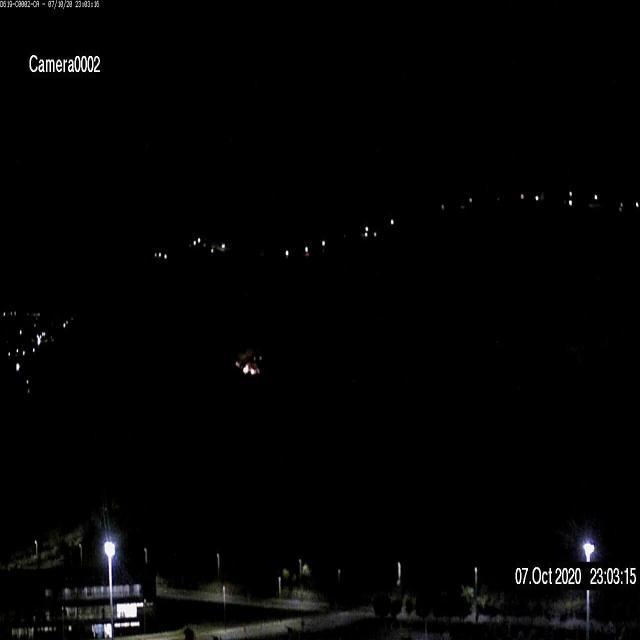Fire: (238, 357, 260, 375)
